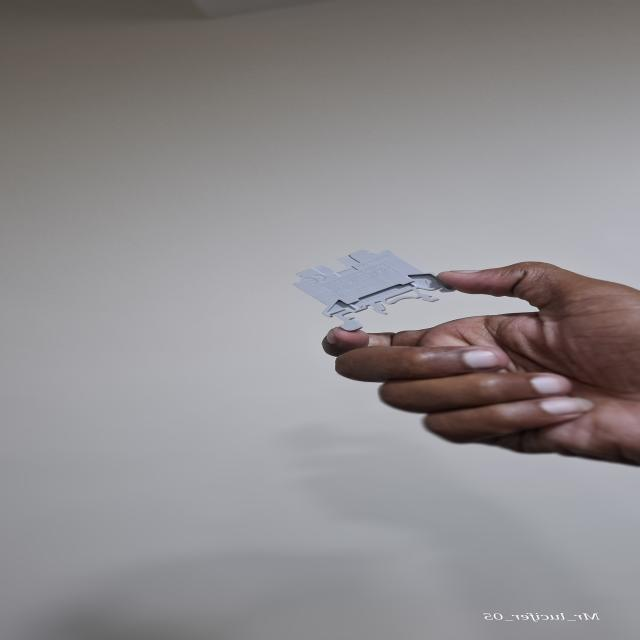Inverted: (292, 248, 458, 331)
